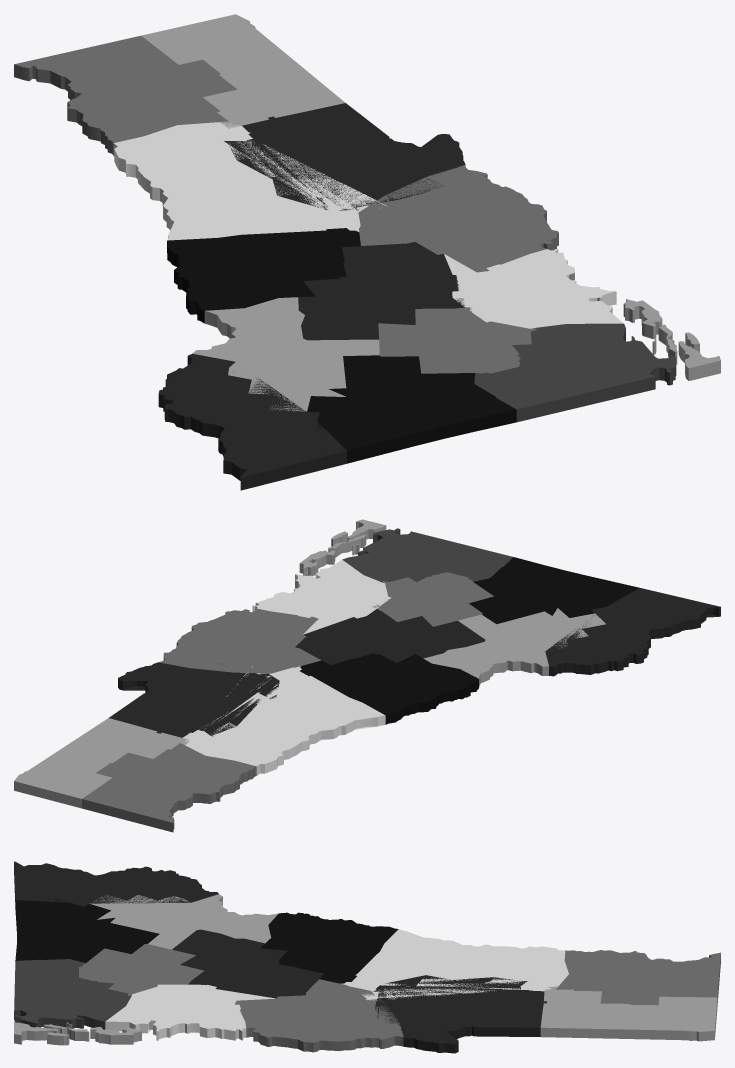
Rendered from Vermont_Counties_3D.fbx.
The picture shows the model from 3 angles, top to bottom: view 1: azimuth 30°, elevation 25°; view 2: azimuth 150°, elevation 25°; view 3: azimuth 270°, elevation 25°; orthographic projection. The views are drawn at different scales.
Parts seen in each view (by area): view 1: VT_Windsor_County_3D, VT_Rutland_County_3D, VT_Windham_County_3D, VT_Essex_County_3D, VT_Orleans_County_3D, VT_Addison_County_3D, VT_Franklin_County_3D, VT_Orange_County_3D, VT_Washington_County_3D, VT_Caledonia_County_3D, VT_Bennington_County_3D, VT_Chittenden_County_3D (+2 smaller); view 2: VT_Windsor_County_3D, VT_Windham_County_3D, VT_Rutland_County_3D, VT_Essex_County_3D, VT_Addison_County_3D, VT_Orange_County_3D, VT_Bennington_County_3D, VT_Caledonia_County_3D, VT_Orleans_County_3D, VT_Washington_County_3D, VT_Franklin_County_3D, VT_Chittenden_County_3D (+2 smaller); view 3: VT_Rutland_County_3D, VT_Windsor_County_3D, VT_Addison_County_3D, VT_Bennington_County_3D, VT_Windham_County_3D, VT_Essex_County_3D, VT_Orleans_County_3D, VT_Franklin_County_3D, VT_Chittenden_County_3D, VT_Washington_County_3D, VT_Orange_County_3D, VT_Caledonia_County_3D (+2 smaller).
Part boxes in pixels (box(x1,y1,x2,y2)): VT_Windsor_County_3D: box(113, 122, 386, 240); VT_Rutland_County_3D: box(224, 103, 465, 210); VT_Windham_County_3D: box(14, 35, 237, 155); VT_Essex_County_3D: box(158, 353, 346, 490); VT_Orleans_County_3D: box(307, 355, 516, 463); VT_Addison_County_3D: box(358, 164, 558, 272); VT_Franklin_County_3D: box(474, 323, 676, 422); VT_Orange_County_3D: box(167, 228, 360, 323); VT_Washington_County_3D: box(298, 242, 465, 340); VT_Caledonia_County_3D: box(192, 297, 379, 411); VT_Bennington_County_3D: box(141, 14, 345, 128); VT_Chittenden_County_3D: box(444, 249, 623, 328); VT_Windsor_County_3D: box(182, 666, 385, 775); VT_Windham_County_3D: box(82, 743, 256, 832); VT_Rutland_County_3D: box(109, 662, 279, 737); VT_Essex_County_3D: box(545, 588, 720, 676); VT_Addison_County_3D: box(159, 608, 321, 673); VT_Orange_County_3D: box(300, 653, 478, 724); VT_Bennington_County_3D: box(14, 718, 189, 808); VT_Caledonia_County_3D: box(423, 608, 605, 687); VT_Orleans_County_3D: box(469, 557, 639, 624); VT_Washington_County_3D: box(295, 609, 485, 664); VT_Franklin_County_3D: box(342, 528, 512, 582); VT_Chittenden_County_3D: box(252, 560, 391, 634); VT_Rutland_County_3D: box(373, 975, 546, 1053); VT_Windsor_County_3D: box(341, 929, 568, 1000); VT_Addison_County_3D: box(234, 979, 403, 1052); VT_Bennington_County_3D: box(540, 986, 717, 1041); VT_Windham_County_3D: box(556, 950, 720, 1005); VT_Essex_County_3D: box(14, 861, 218, 906); VT_Orleans_County_3D: box(15, 898, 159, 962); VT_Franklin_County_3D: box(14, 959, 131, 1029); VT_Chittenden_County_3D: box(105, 984, 275, 1040); VT_Washington_County_3D: box(172, 929, 324, 998); VT_Orange_County_3D: box(260, 912, 398, 983); VT_Caledonia_County_3D: box(89, 894, 278, 949).
Size of the model in its own units: 415 by 10 by 679.
